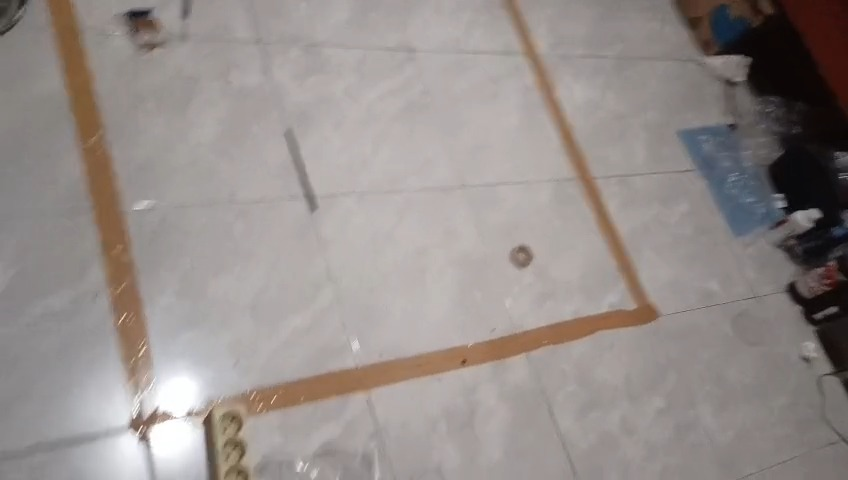floor marking: (188, 0, 659, 415), (49, 0, 181, 432)
